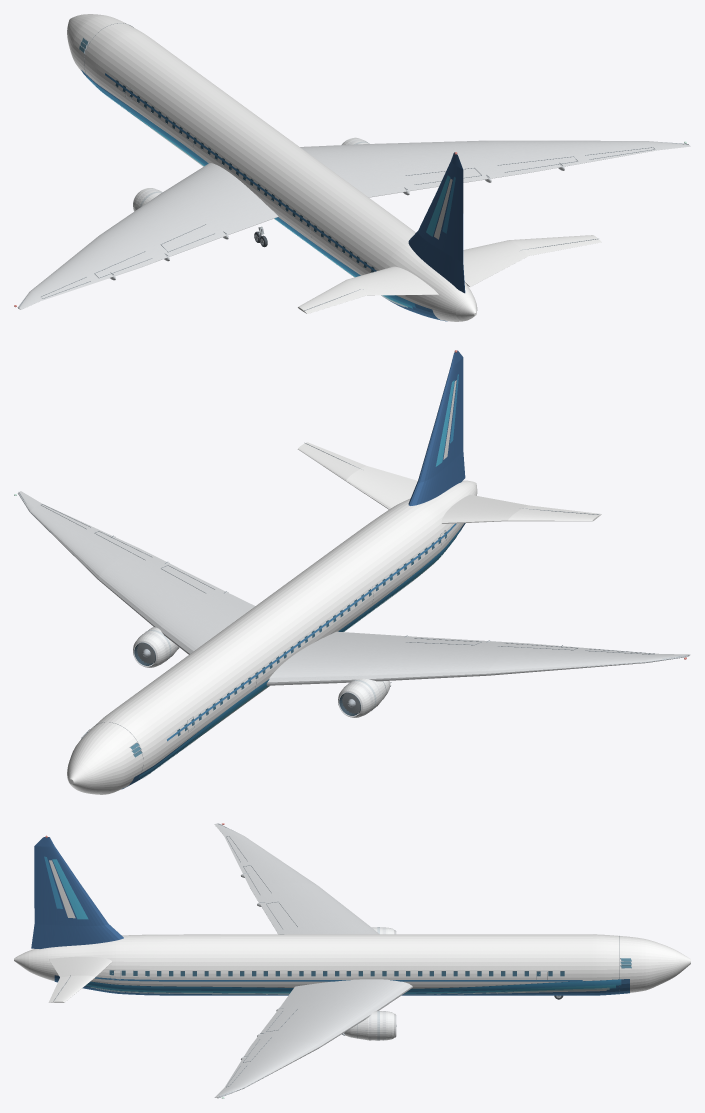
The picture shows the model from 3 angles, top to bottom: view 1: azimuth 30°, elevation 25°; view 2: azimuth 150°, elevation 25°; view 3: azimuth 270°, elevation 25°; orthographic projection. The views are drawn at different scales.
Visible parts, largest first — view 1: surface_warmwhite, surface_silver, surface_deepblue, surface_waveblue, surface_seam, surface_skywave, surface_blue, surface_glass, surface_belly; view 2: surface_warmwhite, surface_silver, surface_deepblue, surface_white, surface_waveblue, surface_seam, surface_skywave, surface_blue; view 3: surface_warmwhite, surface_silver, surface_deepblue, surface_waveblue, surface_belly, surface_skywave, surface_glass, surface_white, surface_blue, surface_paintwhite, surface_pinstripe, surface_seam.
Part boxes in pixels (bbox=[...]): surface_warmwhite: bbox=[67, 14, 601, 321]; surface_silver: bbox=[18, 140, 690, 309]; surface_deepblue: bbox=[408, 152, 465, 293]; surface_waveblue: bbox=[86, 75, 455, 307]; surface_seam: bbox=[41, 23, 655, 310]; surface_skywave: bbox=[92, 83, 450, 308]; surface_blue: bbox=[105, 73, 376, 271]; surface_glass: bbox=[115, 80, 374, 272]; surface_belly: bbox=[81, 70, 447, 321]; surface_warmwhite: bbox=[67, 442, 601, 794]; surface_silver: bbox=[18, 491, 690, 685]; surface_deepblue: bbox=[408, 350, 465, 505]; surface_white: bbox=[133, 627, 390, 717]; surface_waveblue: bbox=[138, 374, 460, 778]; surface_seam: bbox=[41, 442, 654, 772]; surface_skywave: bbox=[140, 380, 456, 778]; surface_blue: bbox=[167, 523, 456, 741]; surface_warmwhite: bbox=[14, 934, 690, 1002]; surface_silver: bbox=[214, 823, 412, 1098]; surface_deepblue: bbox=[31, 837, 123, 948]; surface_waveblue: bbox=[44, 856, 621, 991]; surface_belly: bbox=[54, 975, 629, 995]; surface_skywave: bbox=[52, 859, 615, 993]; surface_glass: bbox=[109, 970, 564, 976]; surface_white: bbox=[345, 927, 394, 1040]; surface_blue: bbox=[95, 977, 582, 981]; surface_paintwhite: bbox=[49, 860, 606, 994]; surface_pinstripe: bbox=[90, 987, 609, 994]; surface_seam: bbox=[53, 836, 619, 1087].
Size of the model in its own units: 60.35 by 16.6 by 62.81.
Materials: 28 (28 with a texture image).
